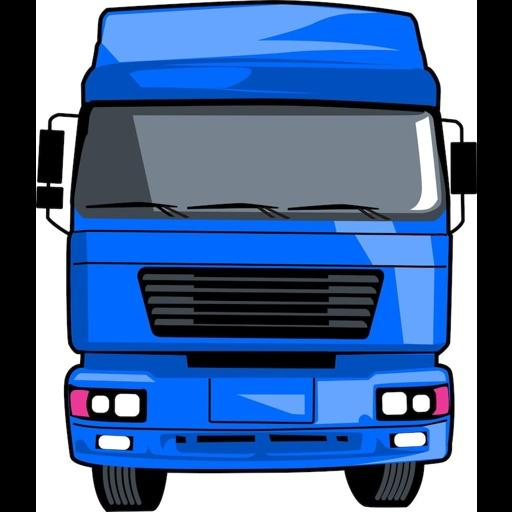truck: (34, 0, 476, 505)
